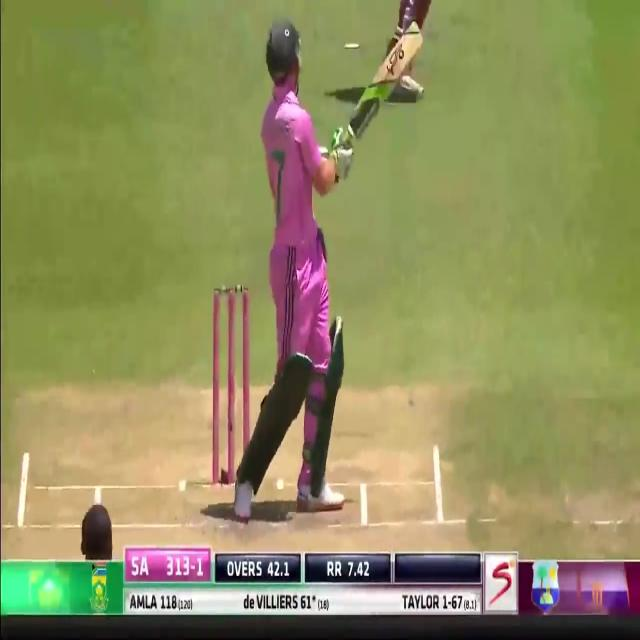Ball: (257, 12, 384, 520)
Fielder: (396, 0, 440, 37)
